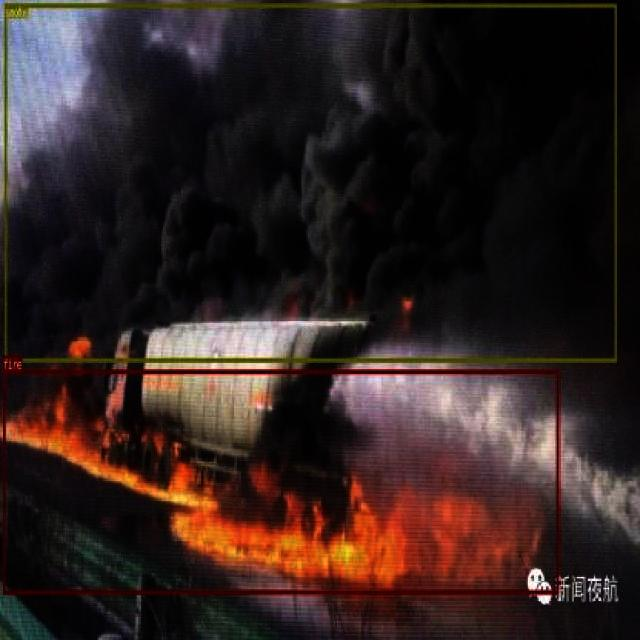fire: (3, 369, 559, 594)
smoke: (4, 3, 616, 362)
